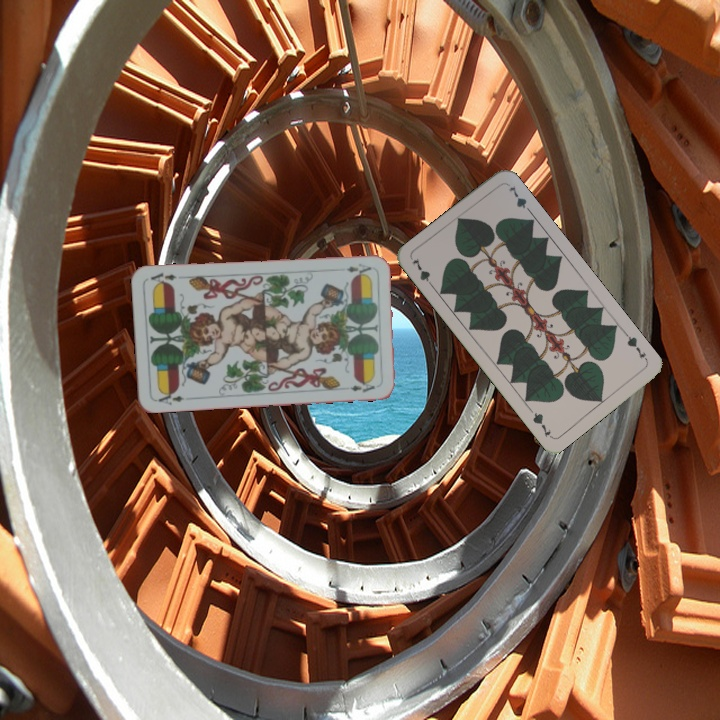EA: (155, 388, 187, 408), (343, 259, 373, 276)
G7: (407, 254, 437, 291), (621, 329, 650, 363)
